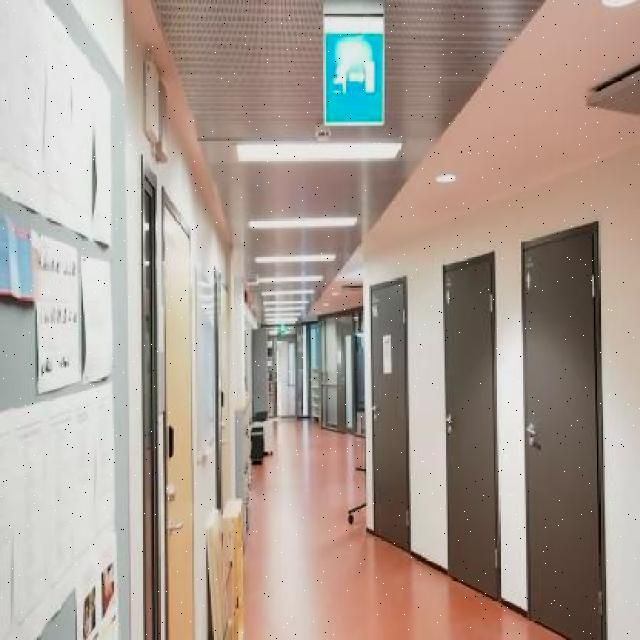emergency_exit: (32, 234, 84, 395), (322, 27, 386, 126)
